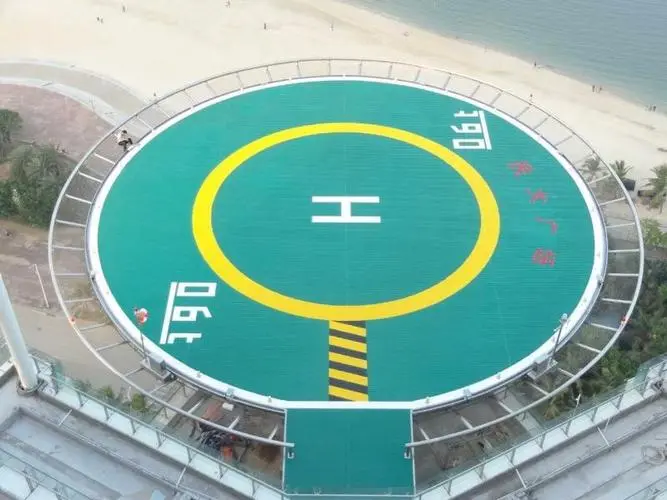Apron: (190, 119, 502, 320)
